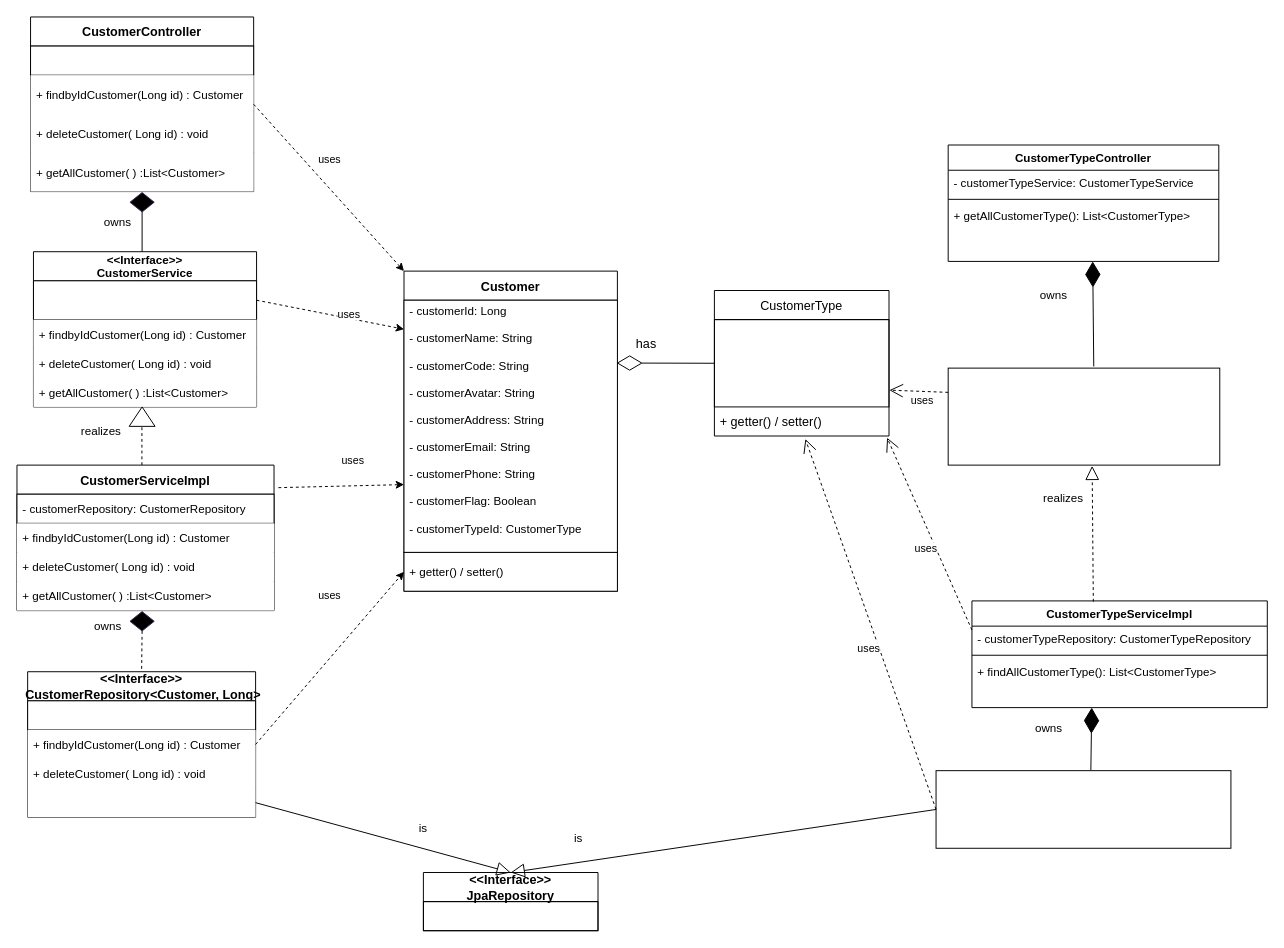
The diagram is 1284 pixels wide and 948 high, and some of its shapes have lost their labels. Here are the shapes that lost their labels. From the top down, the centre of each, then its label:
At (x=142, y=60): "- customerService: CustomerService".
At (x=801, y=363): "- customerTypeId: Long - customerTypeName: String - customerTypeFlag: Boolean".
At (x=1083, y=416): "<<Interface>> CustomerTypeService + findAllCustomerType(): List<CustomerType>".
At (x=1083, y=809): "<<Interface>> CustomerTypeRepository<CustomerType,Long>".
